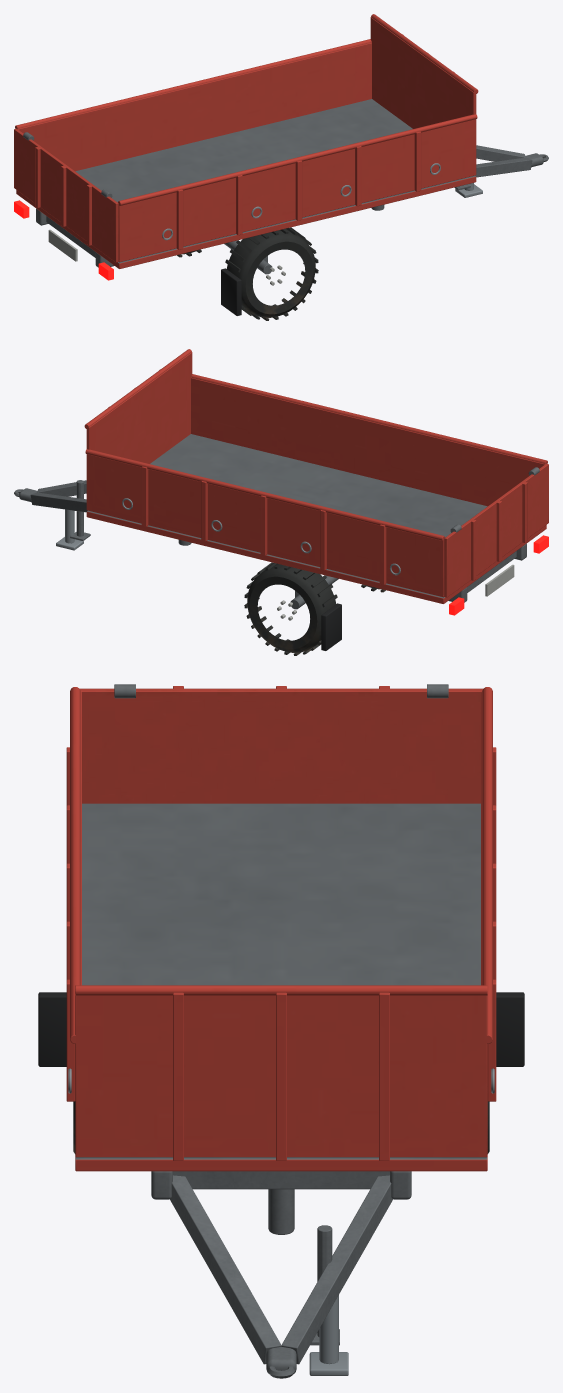
The model's file is trailer_used.glb.
The picture shows the model from 3 angles, top to bottom: view 1: azimuth 30°, elevation 25°; view 2: azimuth 150°, elevation 25°; view 3: azimuth 270°, elevation 25°; orthographic projection. The views are drawn at different scales.
Parts seen in each view (by area): view 1: Bed, Tailgate, Wheel1_Tyre, Chassis, Clean mud flap, TailLamps, Plate; view 2: Bed, Tailgate, Wheel0_Tyre, Chassis, Clean mud flap.001, TailLamps, Plate; view 3: Bed, Tailgate, Chassis, Clean mud flap, Clean mud flap.001, Clean parking jack.
Part boxes in pixels (bbox=[...]): Bed: bbox=[15, 14, 478, 268]; Tailgate: bbox=[14, 128, 118, 262]; Wheel1_Tyre: bbox=[225, 227, 318, 320]; Chassis: bbox=[36, 145, 543, 274]; Clean mud flap: bbox=[221, 268, 241, 315]; TailLamps: bbox=[14, 200, 113, 280]; Plate: bbox=[48, 229, 77, 261]; Bed: bbox=[84, 349, 547, 603]; Tailgate: bbox=[444, 463, 548, 597]; Wheel0_Tyre: bbox=[244, 562, 337, 655]; Chassis: bbox=[19, 480, 526, 609]; Clean mud flap.001: bbox=[321, 603, 341, 650]; TailLamps: bbox=[449, 535, 548, 615]; Plate: bbox=[485, 564, 514, 596]; Bed: bbox=[66, 687, 496, 1171]; Tailgate: bbox=[80, 686, 482, 803]; Chassis: bbox=[151, 1171, 411, 1374]; Clean mud flap: bbox=[38, 992, 66, 1066]; Clean mud flap.001: bbox=[496, 992, 524, 1066]; Clean parking jack: bbox=[319, 1295, 338, 1364].
Bounding box in the file's own units: 5.18 × 1.86 × 2.24.
Materials: 12 (9 with a texture image).
